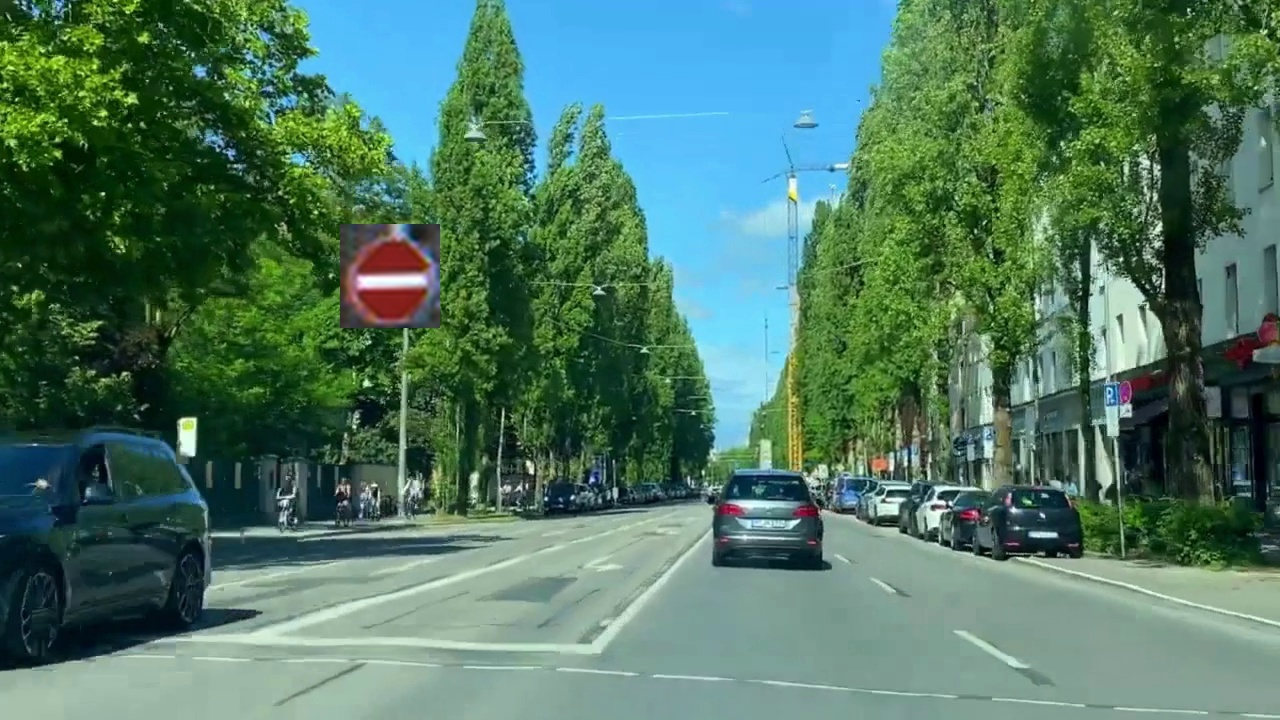No entry: (340, 224, 440, 328)
